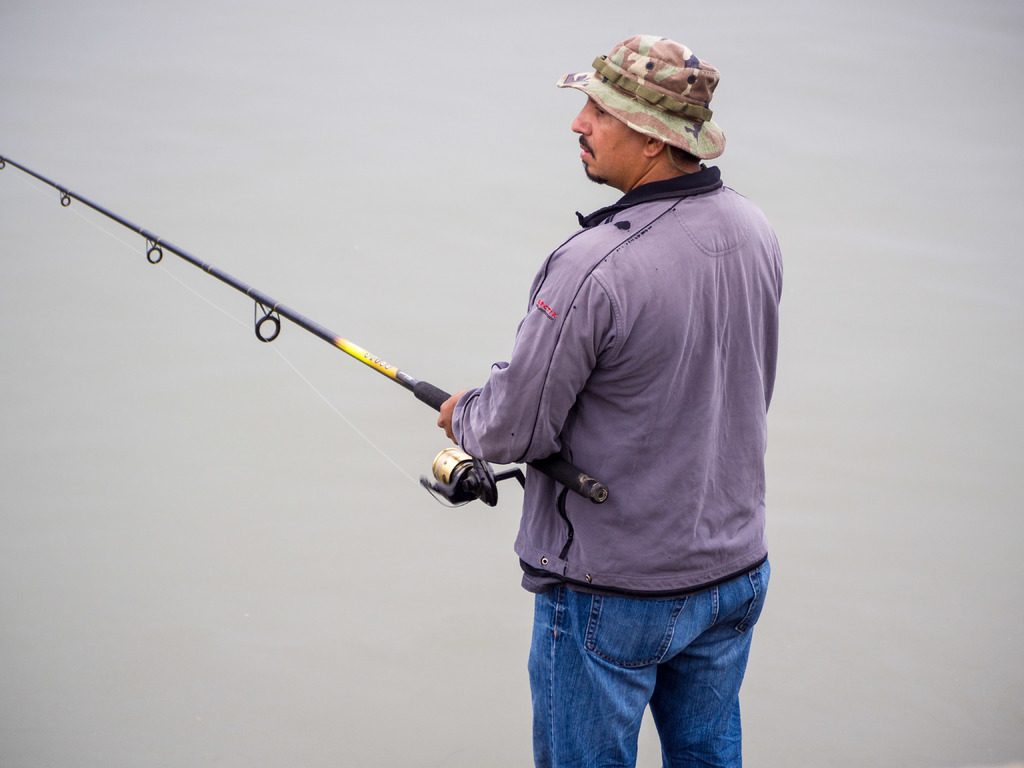hats: (554, 30, 728, 183)
